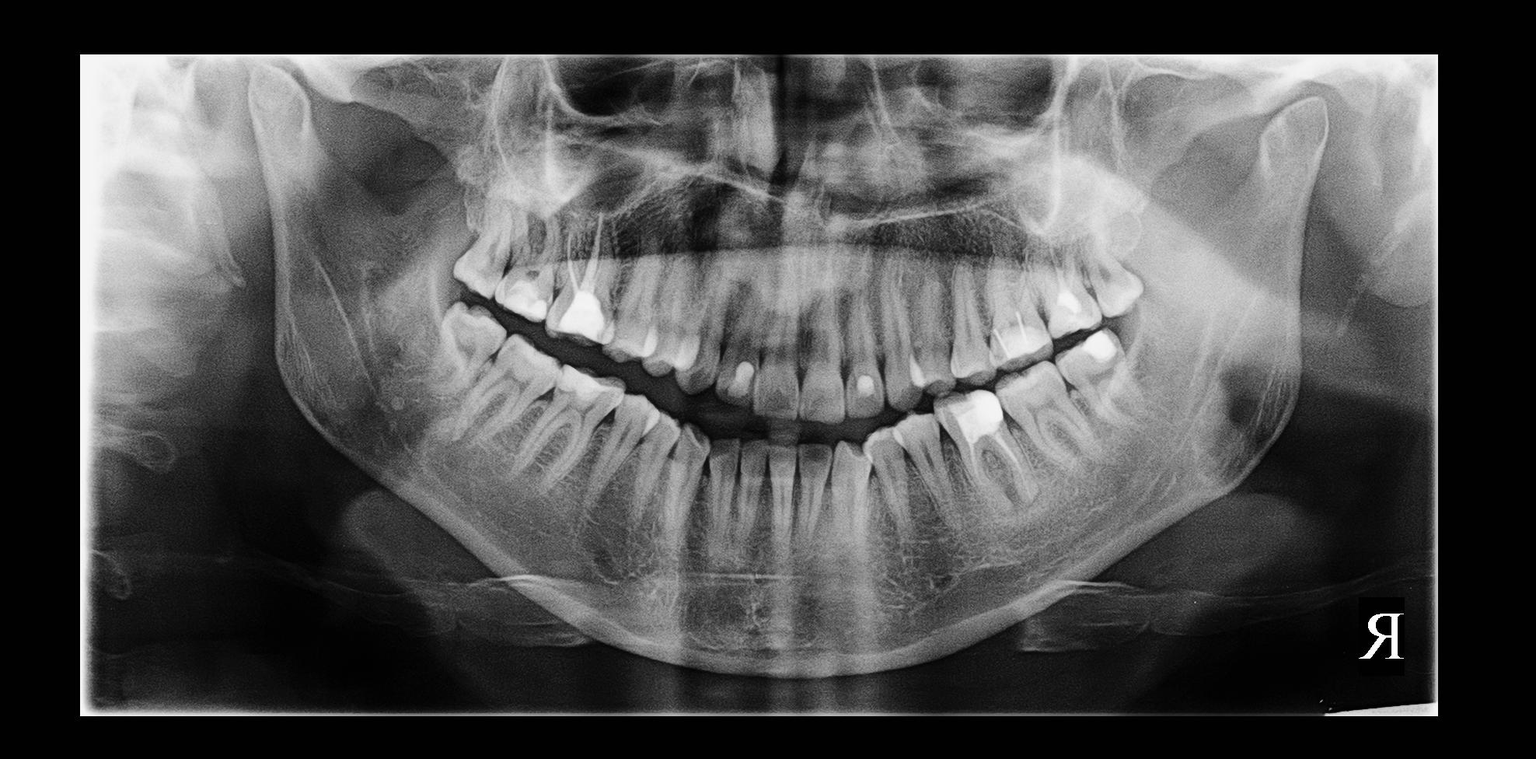Premolars: (565, 178, 1536, 509), (490, 73, 1470, 366), (339, 192, 913, 554), (304, 199, 821, 526), (256, 43, 762, 304)
